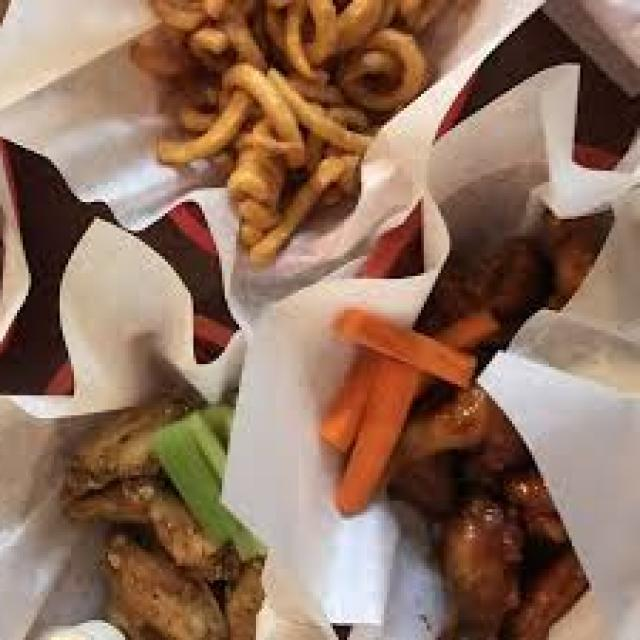Chicken Wings: (64, 191, 631, 640)
